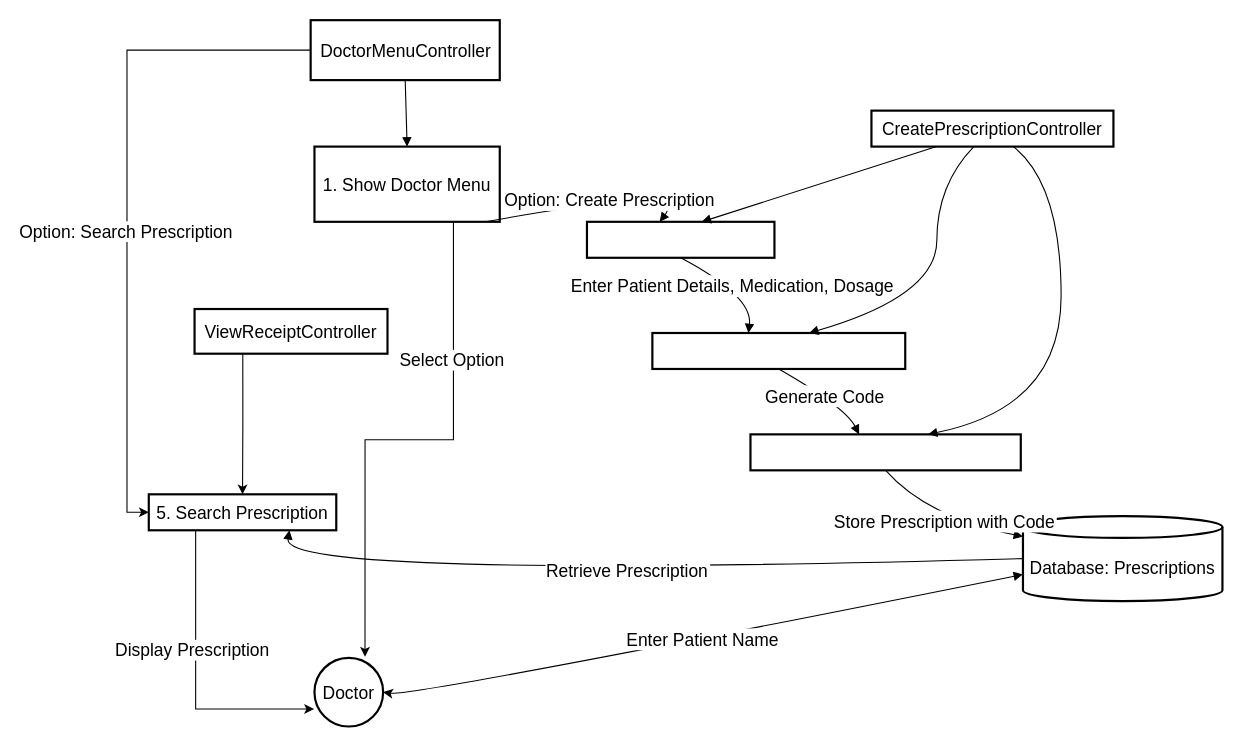
This 1243x746 diagram has some shape labels left out. Each missing label, with the centre of its shape:
"2. Create Prescription" goes at point 680,239.
"3. Generate Prescription Code" goes at point 778,350.
"4. Save Prescription to Database" goes at point 885,452.
